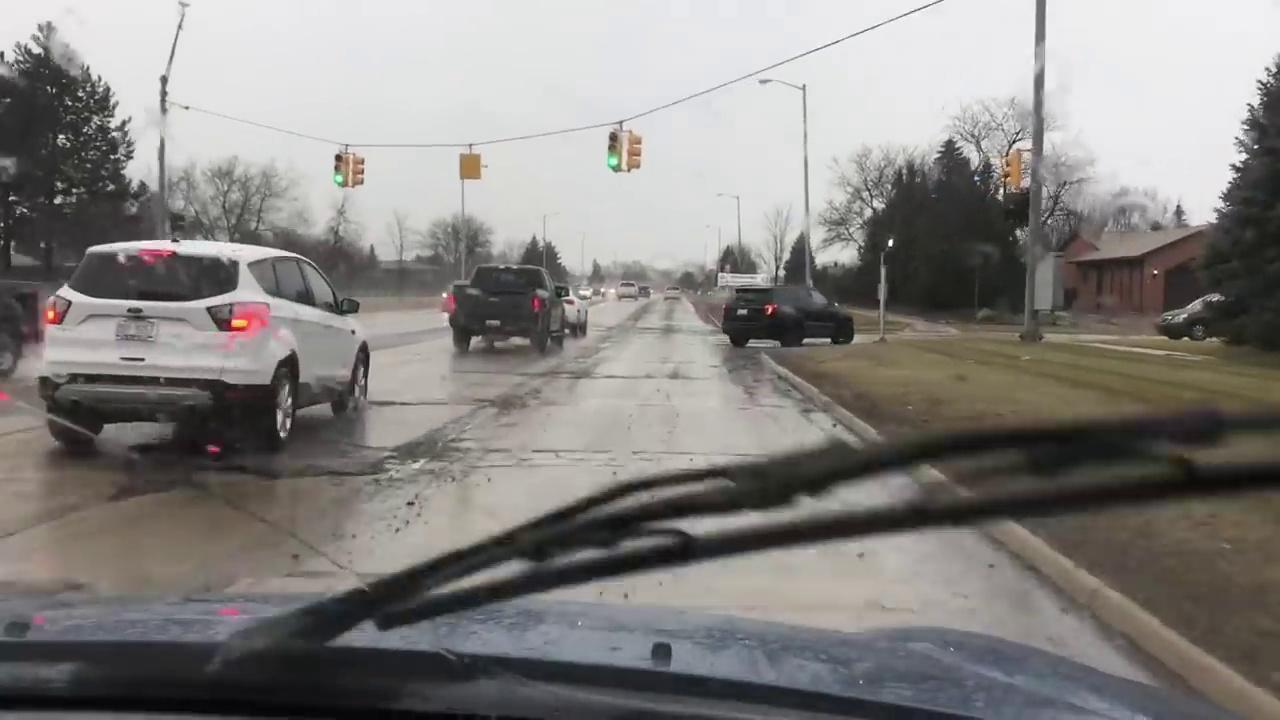pothole: (369, 400, 447, 406)
